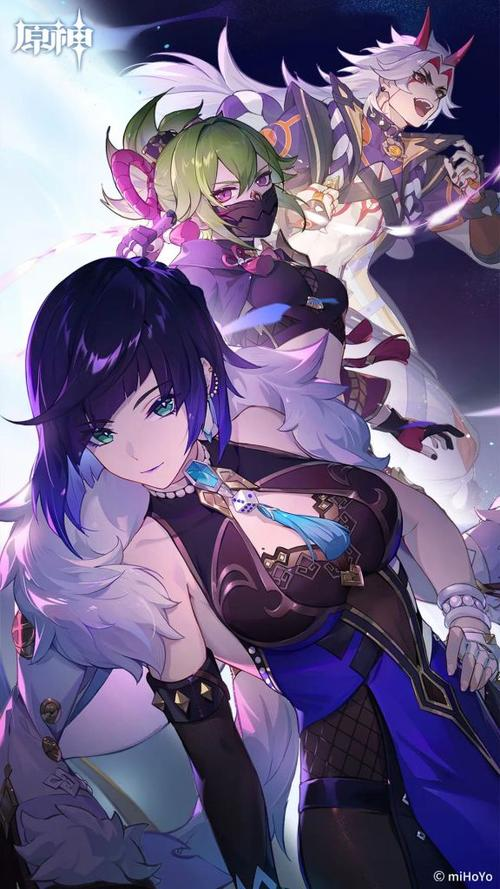夜兰: (24, 258, 500, 889)
